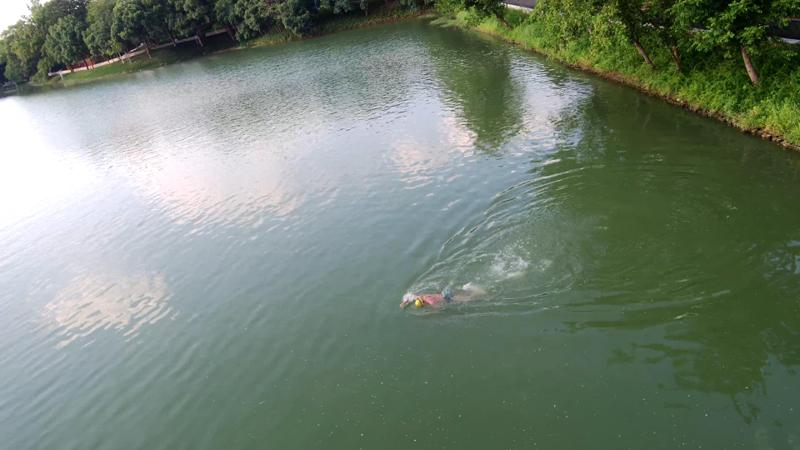swimmers: (399, 287, 476, 317)
